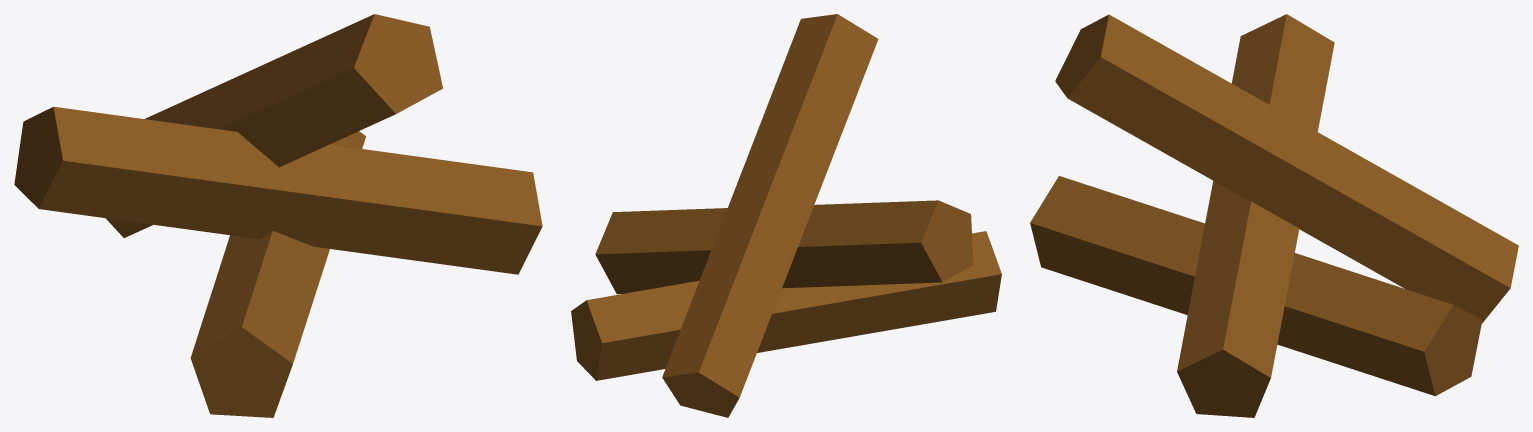
The model's file is firewood.fbx.
3 views of the same model, side by side, from view 1: azimuth 30°, elevation 25°; view 2: azimuth 150°, elevation 25°; view 3: azimuth 270°, elevation 25° (orthographic). The views are drawn at different scales.
Parts seen in each view (by area): view 1: Log2, Log3, Log1; view 2: Log3, Log2, Log1; view 3: Log3, Log1, Log2.
Boxes of the visible parts, x1,y1,x2,y2 form: Log2: (14, 106, 542, 274); Log3: (106, 14, 442, 237); Log1: (190, 131, 365, 417); Log3: (662, 14, 878, 417); Log2: (595, 200, 973, 294); Log1: (571, 231, 1001, 380); Log3: (1055, 14, 1518, 323); Log1: (1030, 176, 1482, 396); Log2: (1177, 14, 1334, 417).
Bounding box in the file's own units: 40.27 × 28.62 × 39.22.
